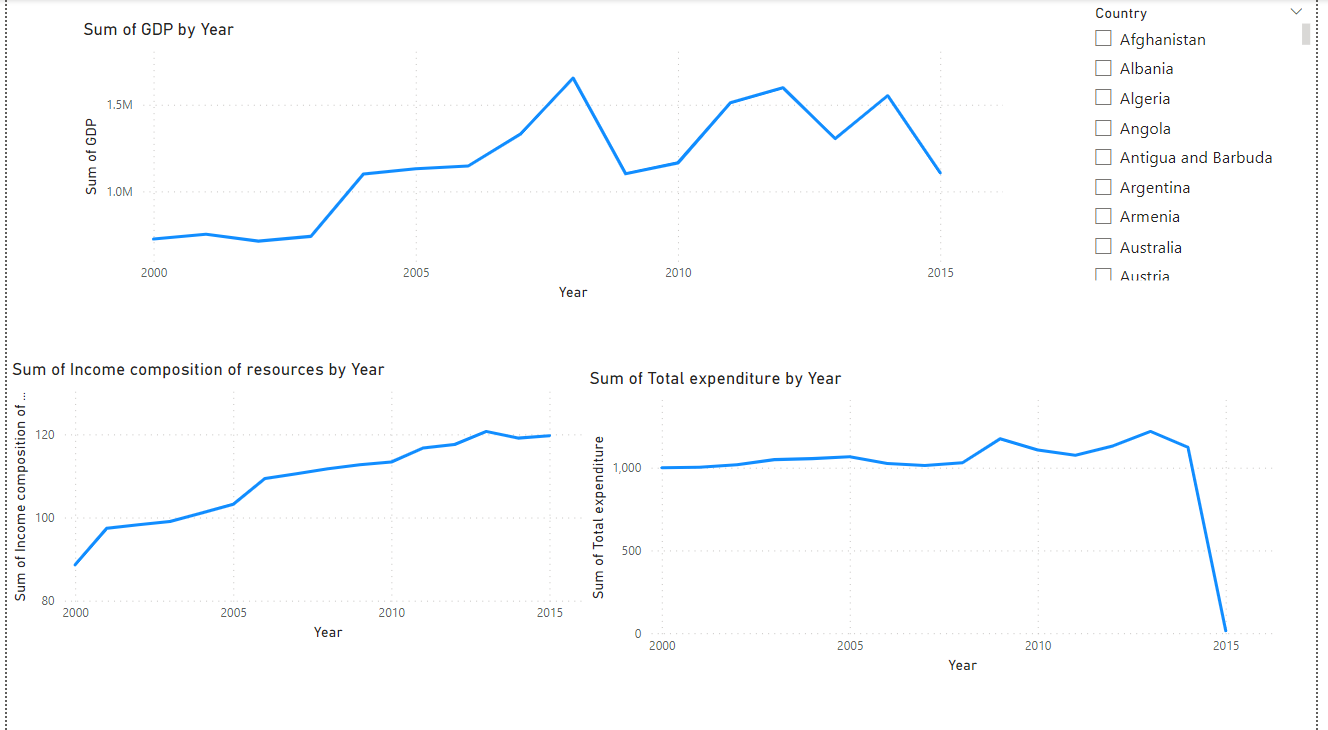

The page's visual inventory and layout, read from the dashboard file:
{"tool":"powerbi","page":{"name":"country_economic_analysis","canvas":[1280,720],"ordinal":3},"visuals":[{"type":"lineChart","fields":{"Y":["Sum(in.GDP)"],"Category":["in.Year"]},"box":[69.7,19.6,911.9,279.9],"z":0},{"type":"slicer","fields":{"Values":["in.Country"]},"box":[1051.3,0,228.6,279.9],"z":1},{"type":"lineChart","fields":{"Y":["Sum(in.Income composition of resources)"],"Category":["in.Year"]},"box":[0,352.1,579.4,279.9],"z":2},{"type":"lineChart","fields":{"Category":["in.Year"],"Y":["Sum(in.Total expenditure)"]},"box":[564.8,360.6,682.1,303.2],"z":3}]}

Visuals, with their boxes on the page's 1280x720 design canvas (x1, y1, x2, y2). These are canvas units, not pixel positions in the 1328x730 screenshot, which may show the page scaled, cropped or inside an application window:
lineChart - Sum(in.GDP) x in.Year: locate(70, 20, 982, 300)
slicer - in.Country: locate(1051, 0, 1280, 280)
lineChart - Sum(in.Income composition of resources) x in.Year: locate(0, 352, 579, 632)
lineChart - in.Year x Sum(in.Total expenditure): locate(565, 361, 1247, 664)
